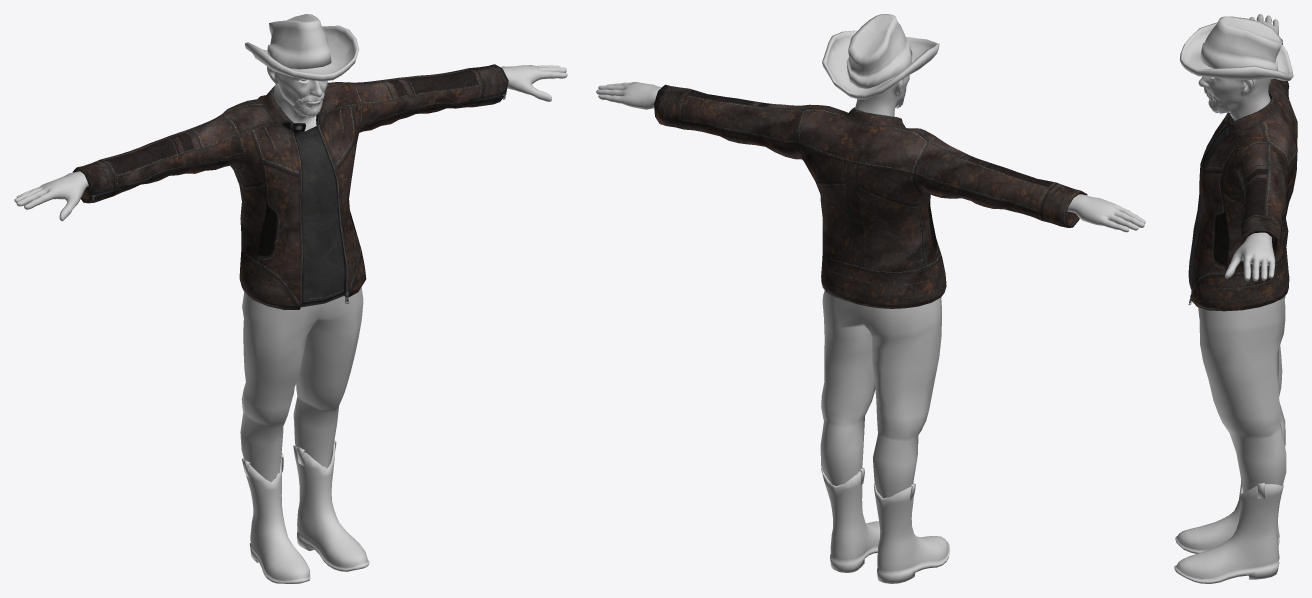
The model's file is cumboy.obj.
3 views of the same model, side by side, from view 1: azimuth 30°, elevation 25°; view 2: azimuth 150°, elevation 25°; view 3: azimuth 270°, elevation 25° (orthographic).
Visible parts, largest first — view 1: Tops, Bottoms, Shoes, Hats, Body; view 2: Tops, Bottoms, Shoes, Hats, Body; view 3: Tops, Bottoms, Shoes, Hats, Body, Beards.
Boxes of the visible parts, x1,y1,x2,y2 form: Tops: (72,64,508,309); Bottoms: (240,287,363,481); Shoes: (242,440,369,583); Hats: (245,14,359,81); Body: (14,65,567,221); Tops: (654,84,1087,308); Bottoms: (820,290,941,498); Shoes: (821,467,949,583); Hats: (822,14,939,99); Body: (596,75,1145,232); Tops: (1188,39,1297,311); Bottoms: (1198,295,1286,492); Shoes: (1174,480,1283,583); Hats: (1180,16,1293,80); Body: (1198,14,1278,281); Beards: (1208,98,1230,114).
Bounding box in the file's own units: 193 × 183 × 37.79.
